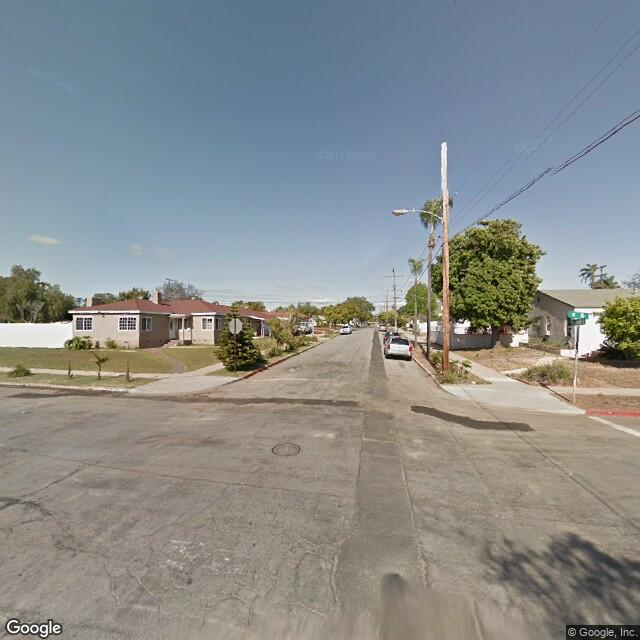litter: (470, 378, 475, 385)
